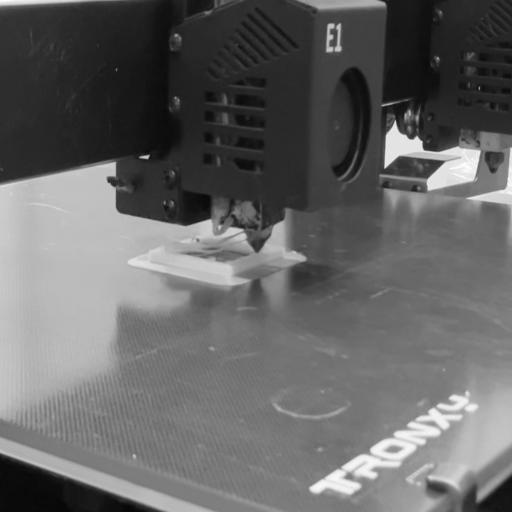spaghetti_and_stringing: (162, 222, 262, 258)
